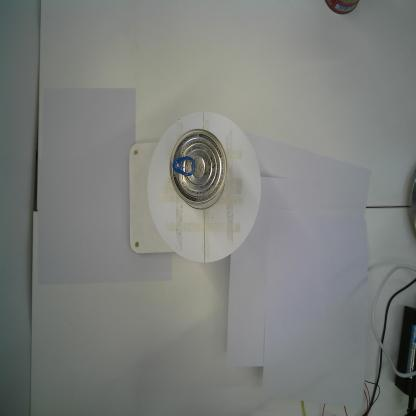Canned Food: (168, 128, 228, 210)
